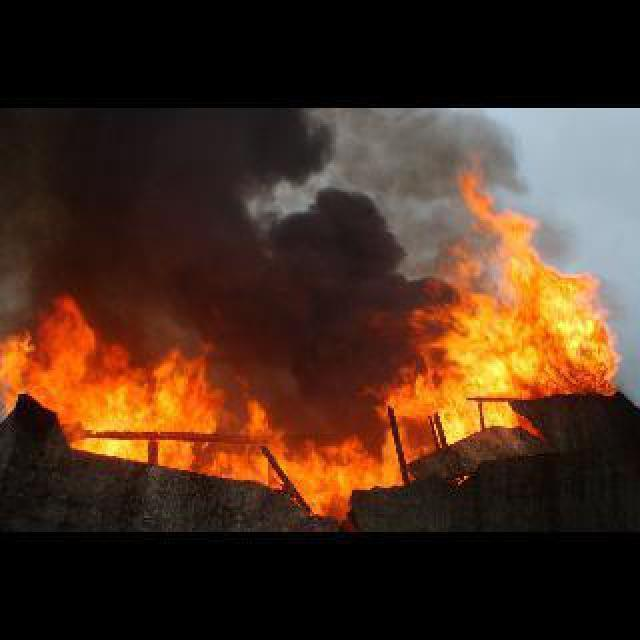Fire: (2, 218, 618, 478)
Smoke: (348, 114, 524, 268)
